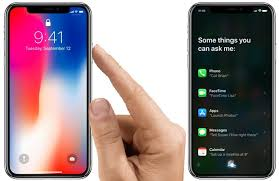iphone: (181, 1, 279, 180), (1, 1, 97, 179)
iphone10: (181, 1, 279, 179), (1, 1, 97, 179)
